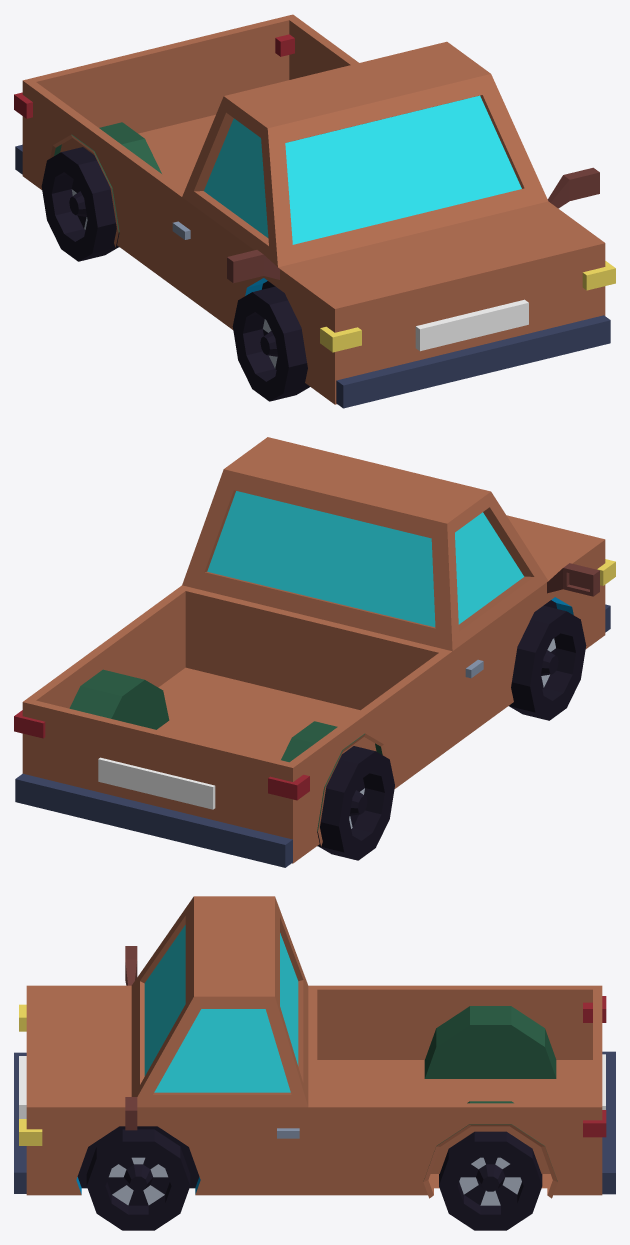
Rendered from car8.fbx.
3 renders of one model, top to bottom at view 1: azimuth 30°, elevation 25°; view 2: azimuth 150°, elevation 25°; view 3: azimuth 270°, elevation 25°, orthographic. The views are drawn at different scales.
Parts seen in each view (by area): view 1: Car-orange; view 2: Car-orange; view 3: Car-orange.
Boxes of the visible parts, x1,y1,x2,y2 form: Car-orange: (14, 14, 615, 408); Car-orange: (14, 437, 615, 867); Car-orange: (14, 896, 615, 1230).
Size of the model in its own units: 2.71 by 1.67 by 4.18.
